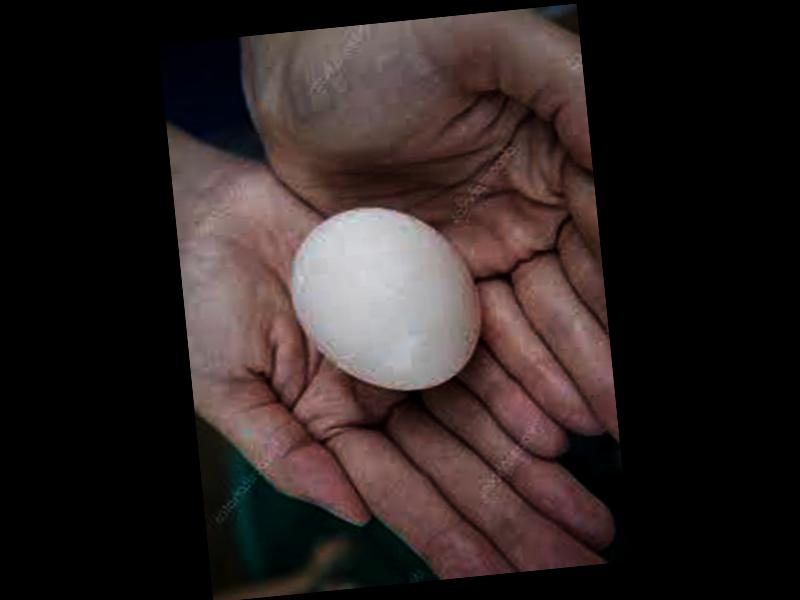Eggs: (288, 199, 482, 401)
